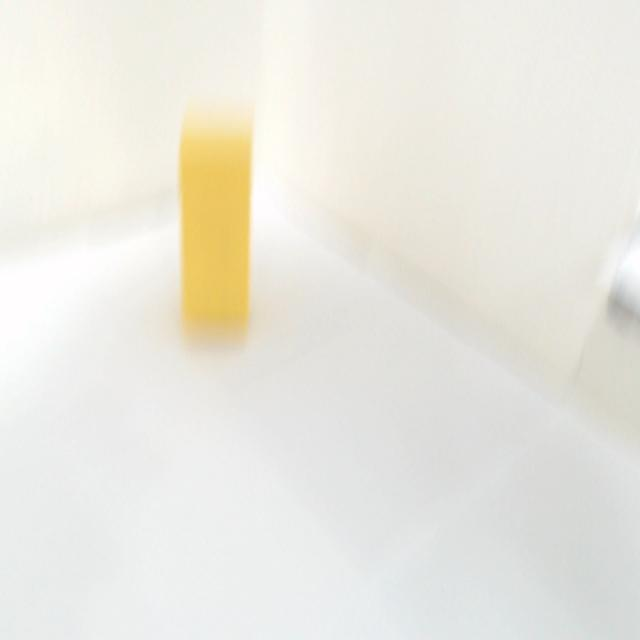cube: (173, 98, 261, 362)
